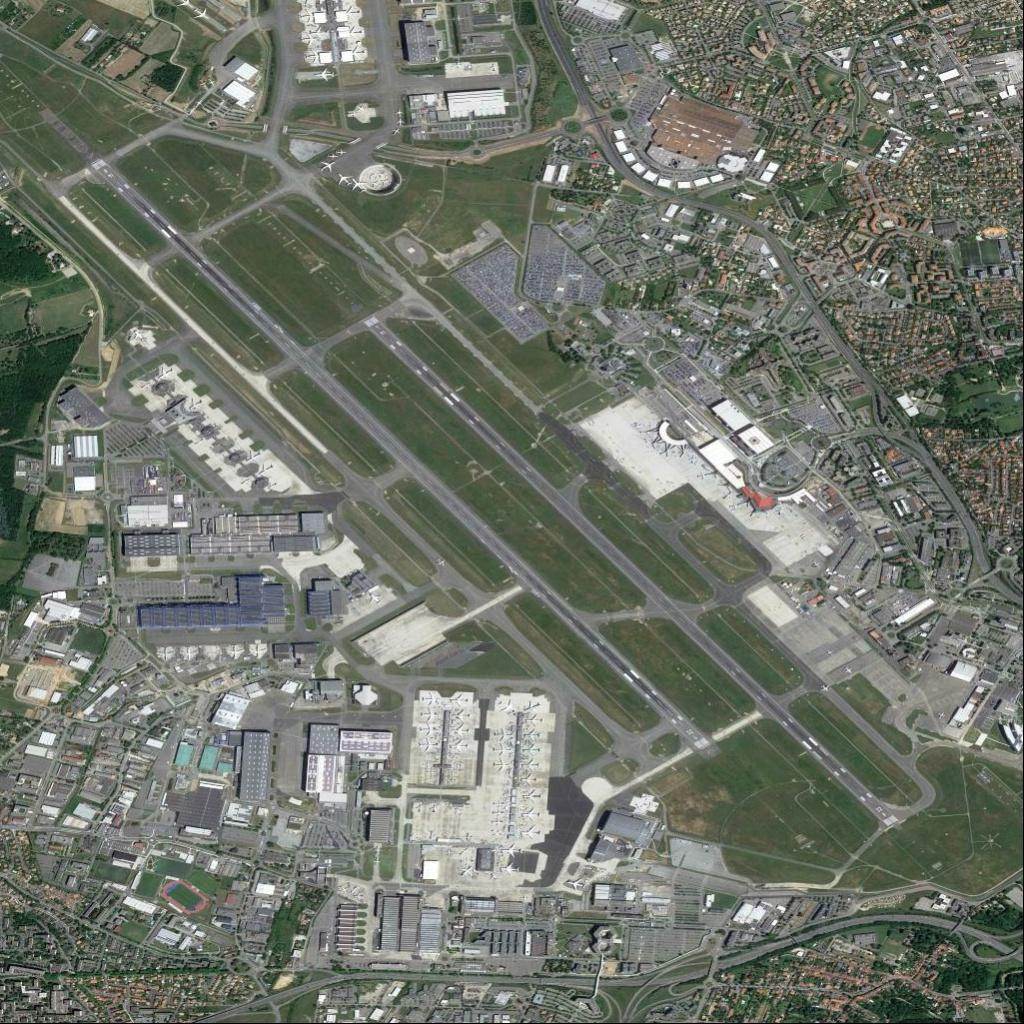plane: (189, 4, 213, 23), (348, 176, 368, 193), (316, 158, 336, 174), (334, 171, 353, 187), (498, 696, 514, 713), (315, 67, 334, 81), (524, 698, 539, 714), (421, 720, 436, 735), (347, 26, 365, 38), (351, 44, 366, 58), (525, 791, 541, 803), (420, 738, 435, 750), (502, 846, 520, 856), (179, 0, 196, 10), (423, 709, 437, 721), (524, 828, 538, 840), (345, 5, 360, 16), (450, 741, 468, 750), (502, 864, 518, 874), (495, 728, 508, 740), (495, 758, 508, 770), (299, 8, 312, 20), (526, 715, 541, 725), (301, 32, 316, 42), (522, 775, 537, 785), (495, 743, 508, 754), (525, 730, 538, 741), (524, 809, 538, 819), (452, 696, 467, 705), (525, 744, 537, 755), (390, 126, 402, 137), (423, 693, 436, 703), (454, 726, 467, 736), (309, 49, 319, 61), (525, 760, 538, 768), (453, 711, 467, 718), (327, 152, 339, 159), (337, 149, 346, 156), (396, 119, 405, 126), (397, 109, 402, 116)
